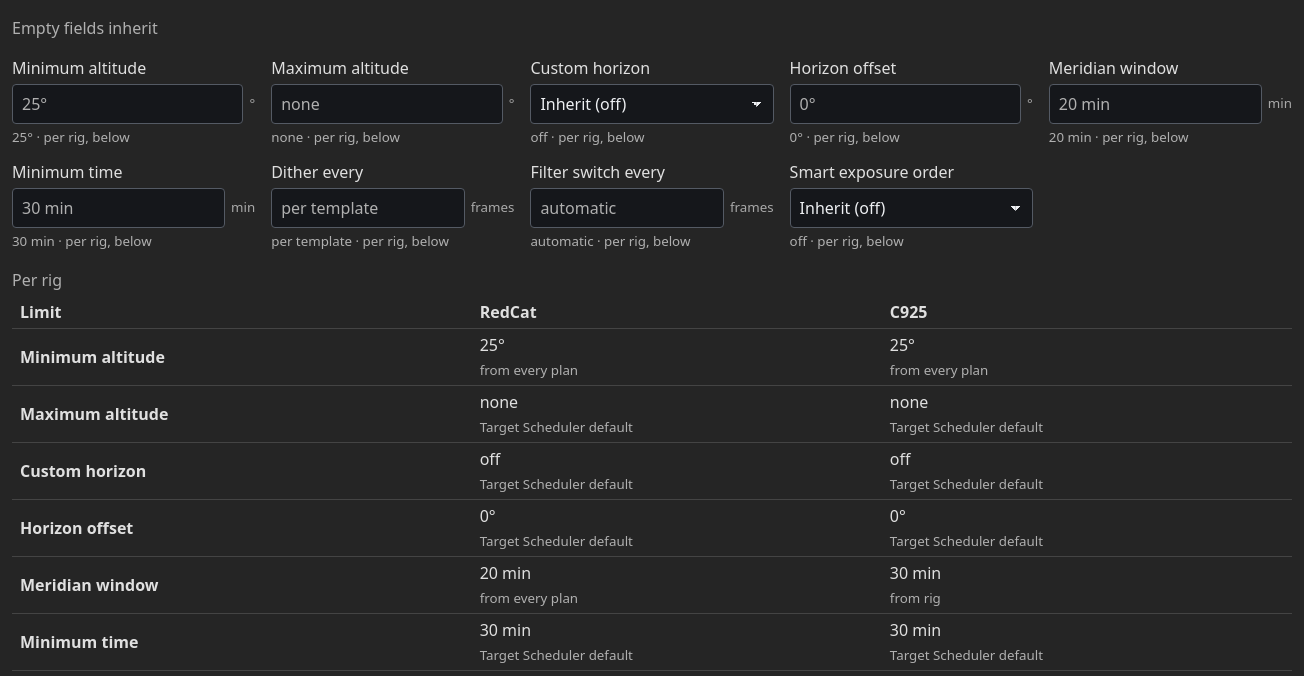
Scenario: plan scheduling limits › keeps edits through a conflict, loads the newer limits under them, and reloads on request
This screenshot has width=1304, height=676.
Type "35" into the number field labelled "Minimum altitude" at x=128, y=104, box [12,84,244,124]
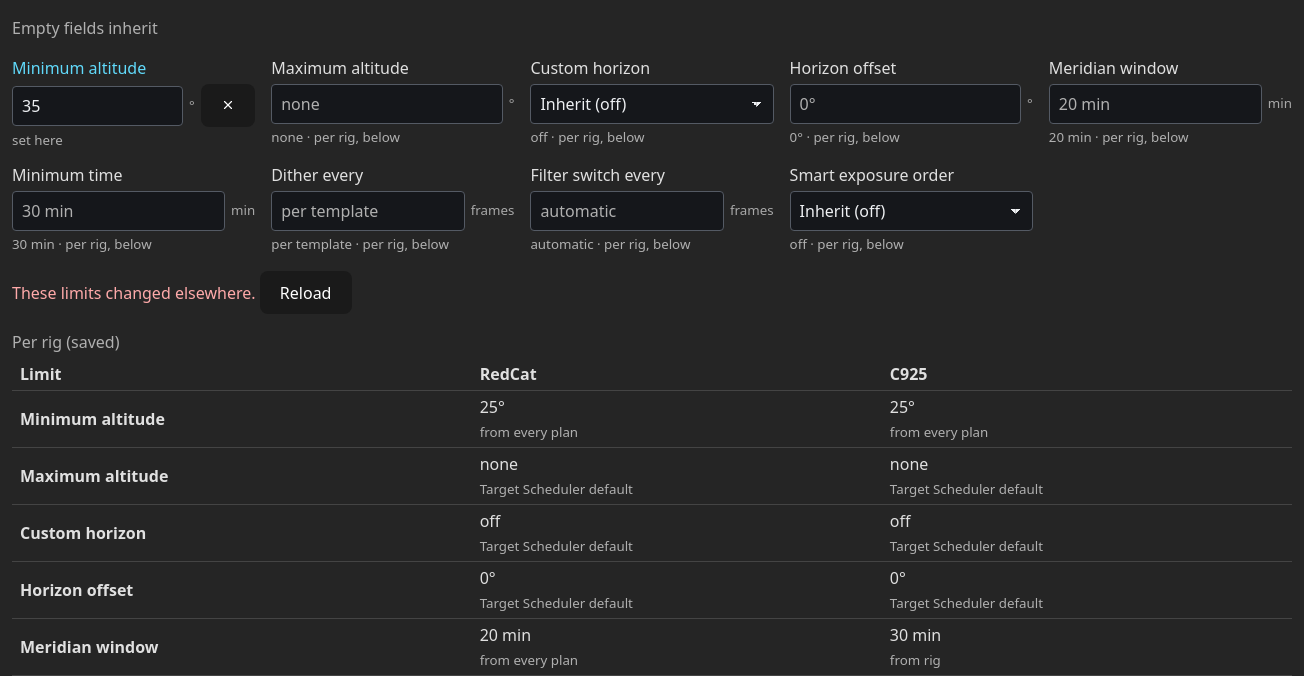
Now the text "These limits changed elsewhere. Reload" is shown, box [12,271,352,314]
Click the button "Reload" at x=306, y=293, box [260,271,352,314]
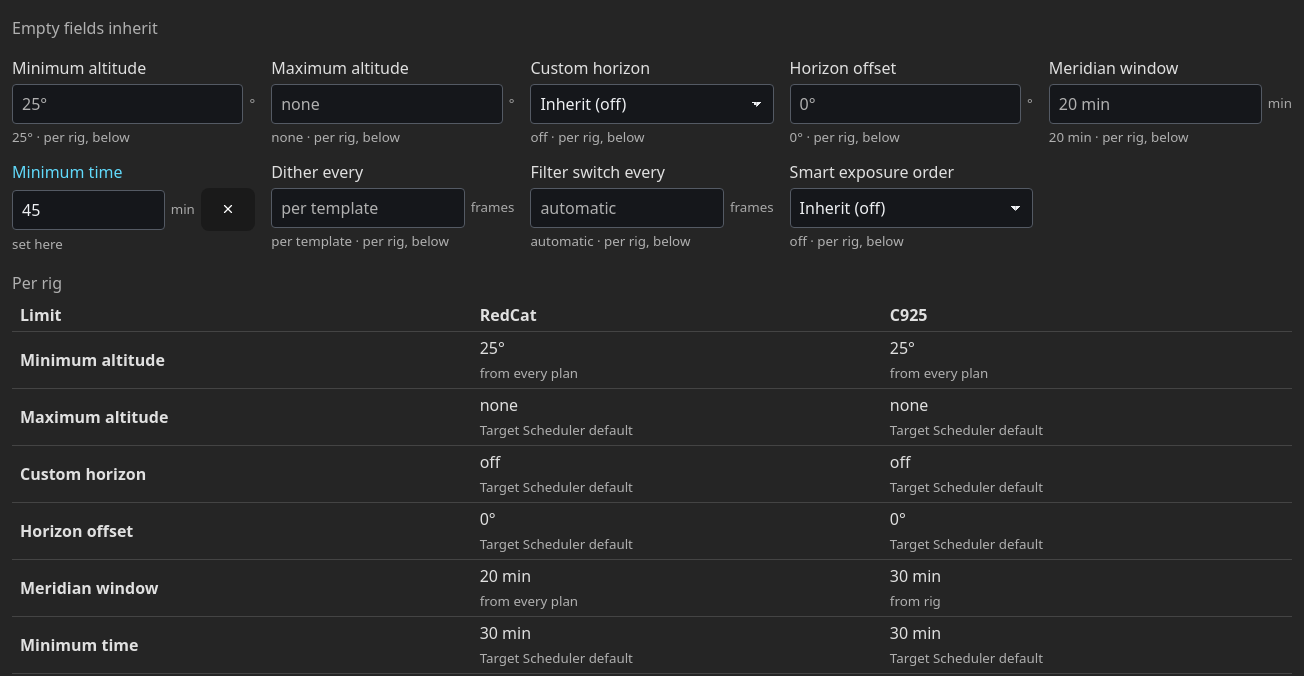
Now the number field labelled "Minimum time" holds "45", box [12,190,165,230]
Now the number field labelled "Minimum altitude" is not empty, box [12,84,244,124]
Now the text "These limits changed elsewhere" is gone
